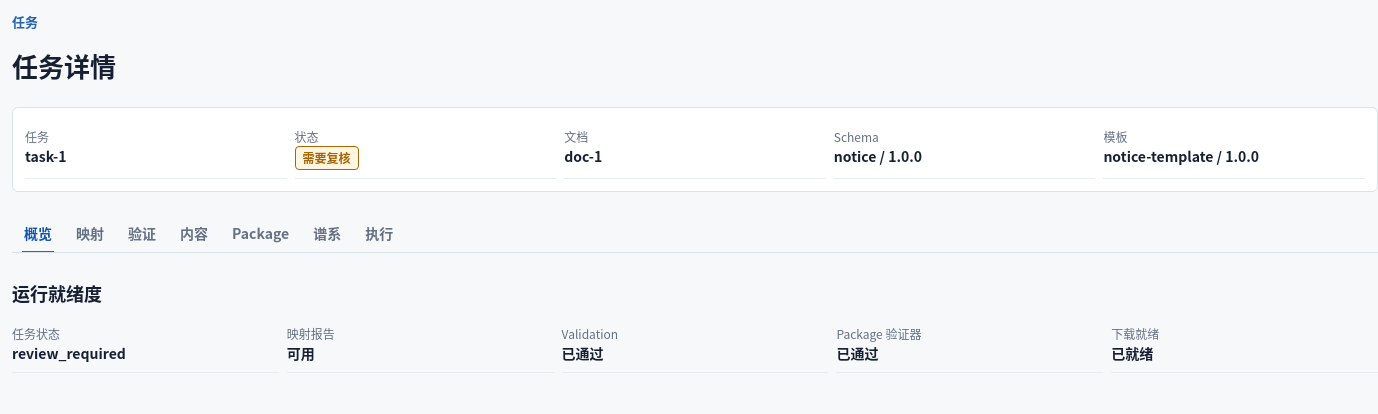
Test: TaskDetailPage › labels LLM mapping suggestions as unaccepted even when the backend marks them auto accepted
Check: the text "task-1" is shown, box [25, 146, 66, 166]
Click the tab "映射": {"x": 90, "y": 234} [64, 216, 116, 252]
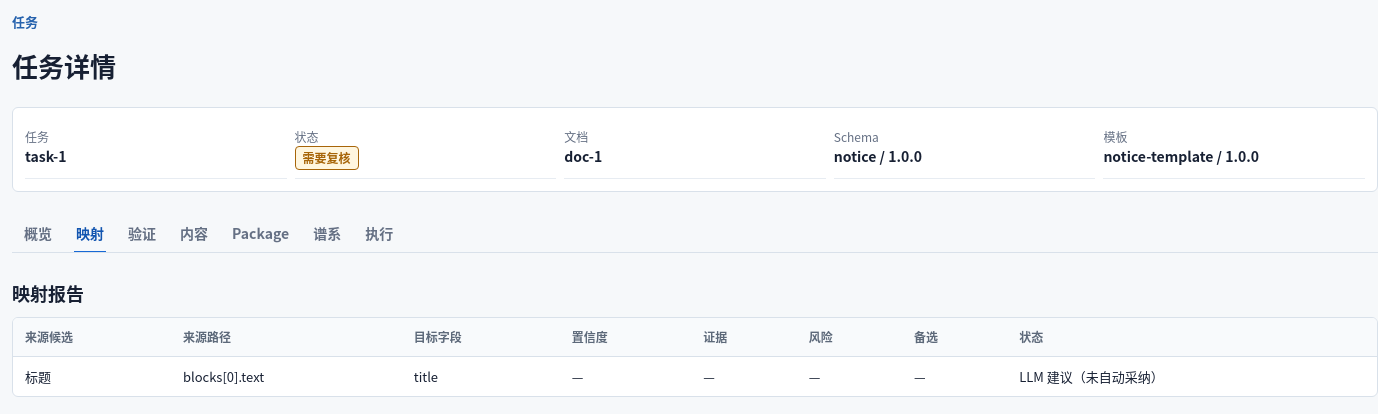
Check: the text "LLM 建议（未自动采纳）" is shown, box [1007, 356, 1377, 396]
